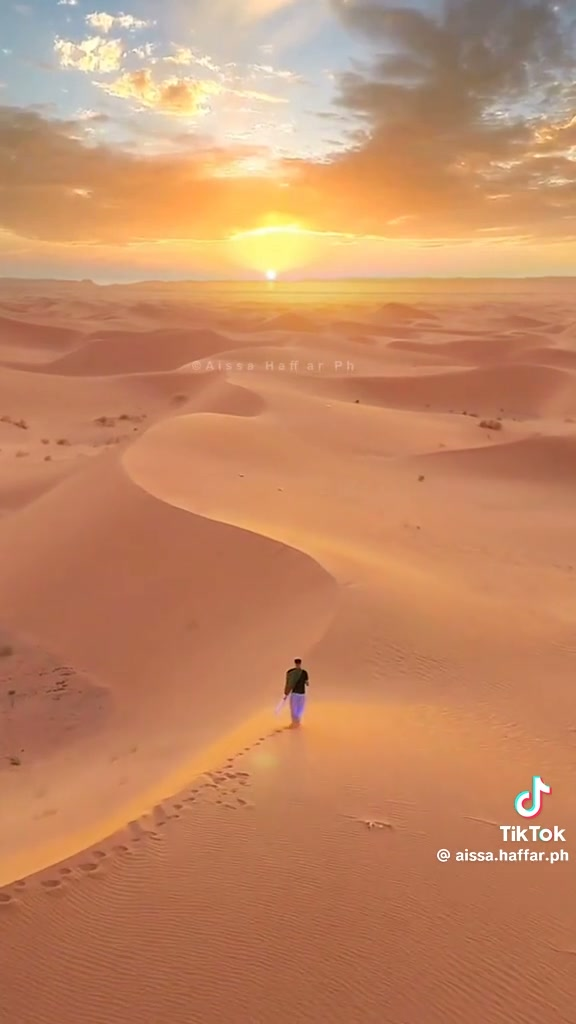human_foot_print: (0, 747, 256, 904)
